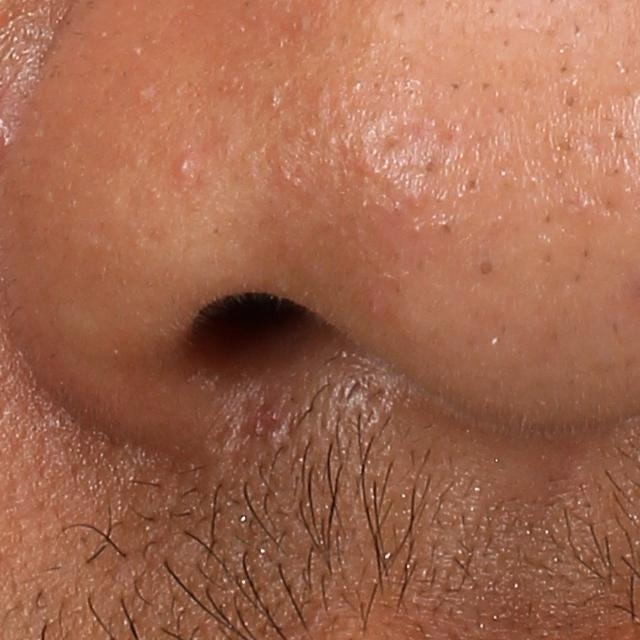comedo: (478, 259, 497, 281)
